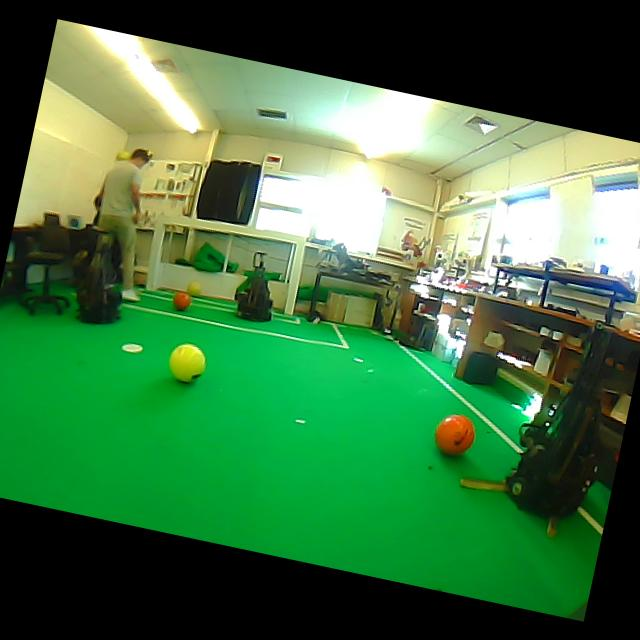ball: (434, 414, 474, 454), (169, 343, 205, 381), (173, 291, 190, 310), (187, 281, 200, 296), (115, 150, 129, 161)
goal: (146, 214, 172, 289), (283, 236, 305, 314)
robot: (505, 324, 612, 517), (76, 230, 122, 323), (235, 251, 271, 321)
